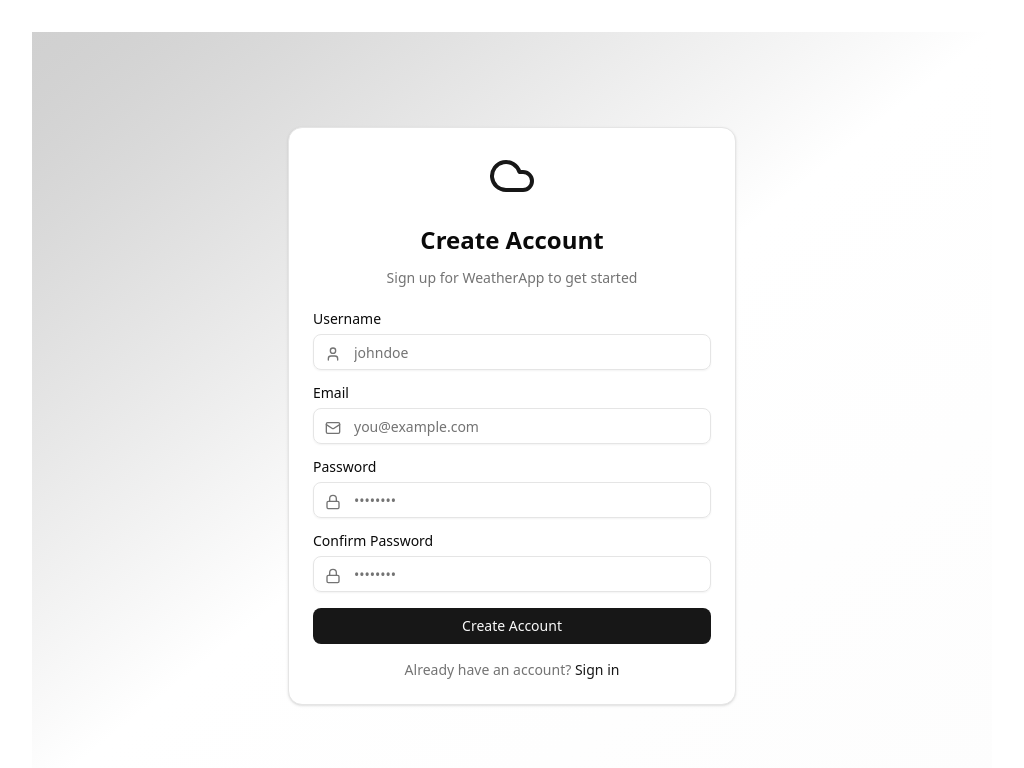
Register Component › V-5: should show an error if passwords do not match
# Fill the form with mismatching passwords (but valid in all other ways)
Type "ValidUser" into the field labelled "Username". click: (512, 352)
box: x1=313 y1=334 x2=711 y2=370
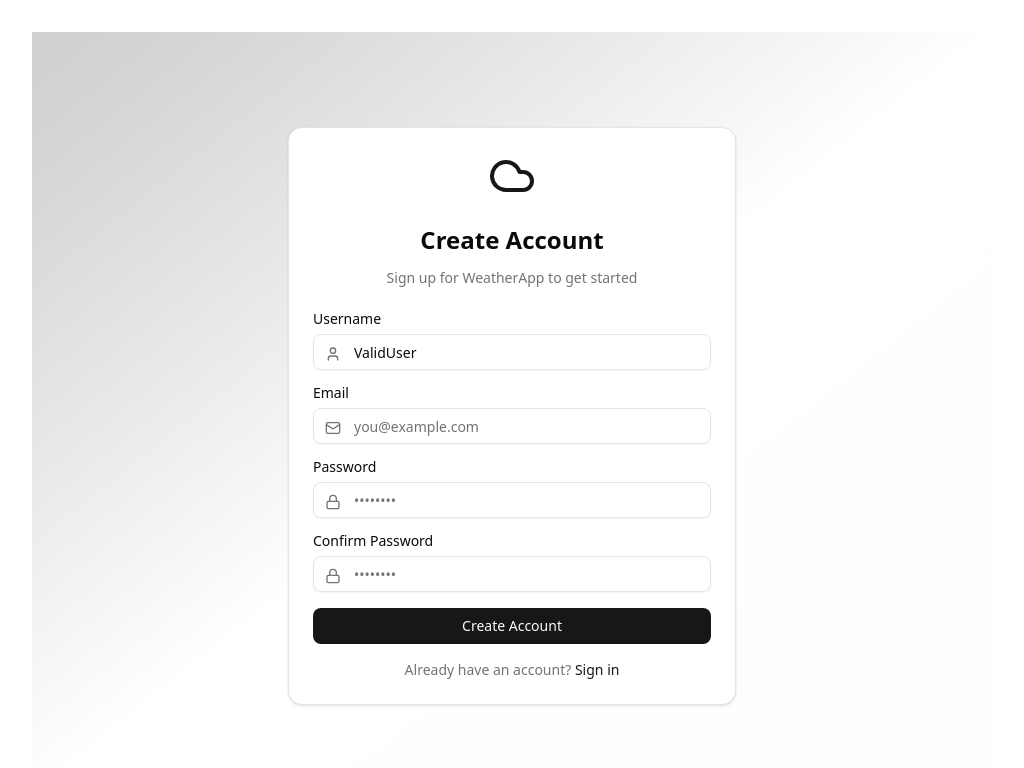
Type "valid@email.com" into the field labelled "Email". click: (512, 426)
box: x1=313 y1=408 x2=711 y2=444
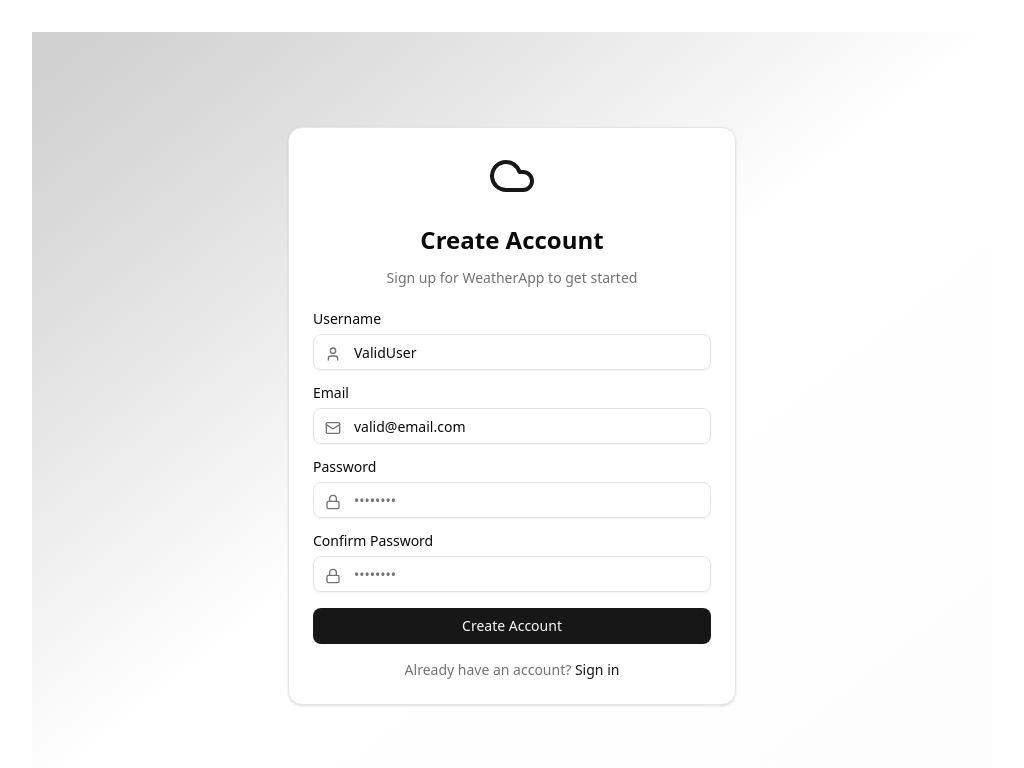
Type "secure123" into the password field labelled "Password". click: (512, 500)
box: x1=313 y1=482 x2=711 y2=518
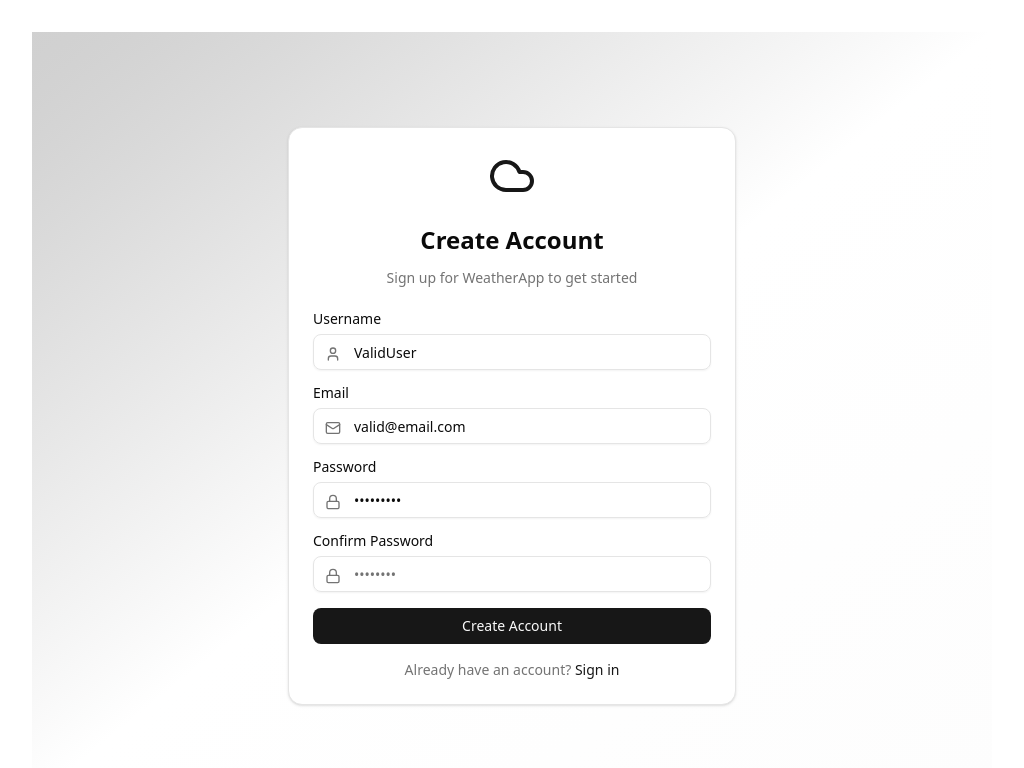
Type "different456" into the password field labelled "Confirm Password". click: (512, 574)
box: x1=313 y1=556 x2=711 y2=592
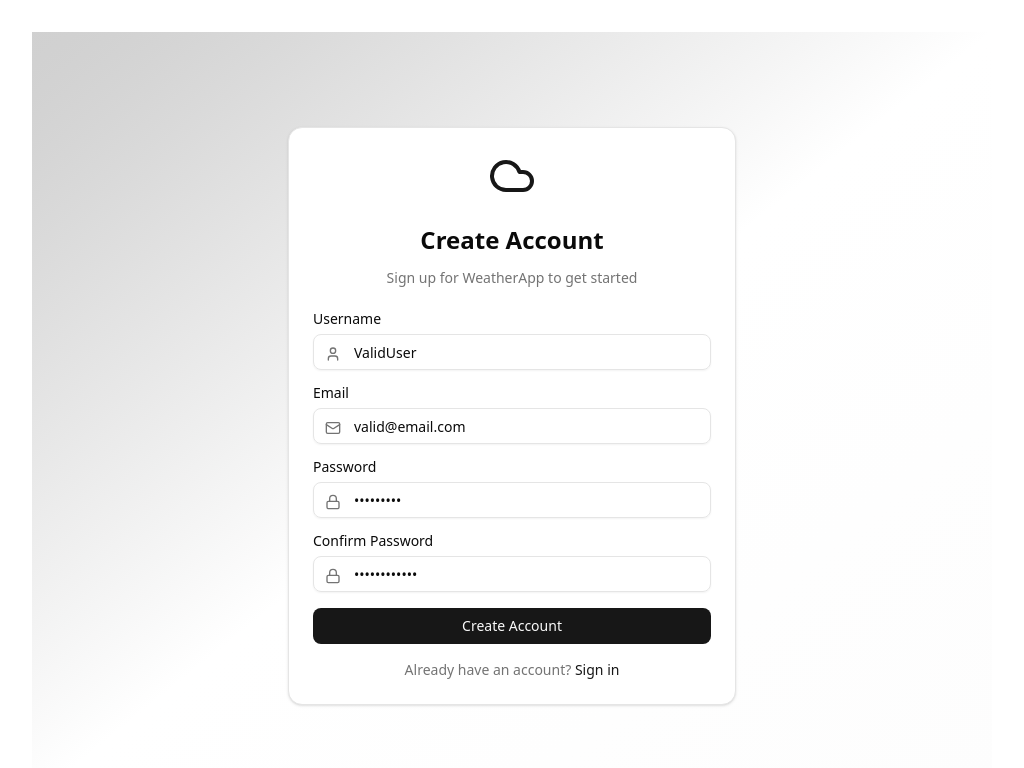
Click the button "Create Account". click: (512, 626)
box: x1=313 y1=608 x2=711 y2=644
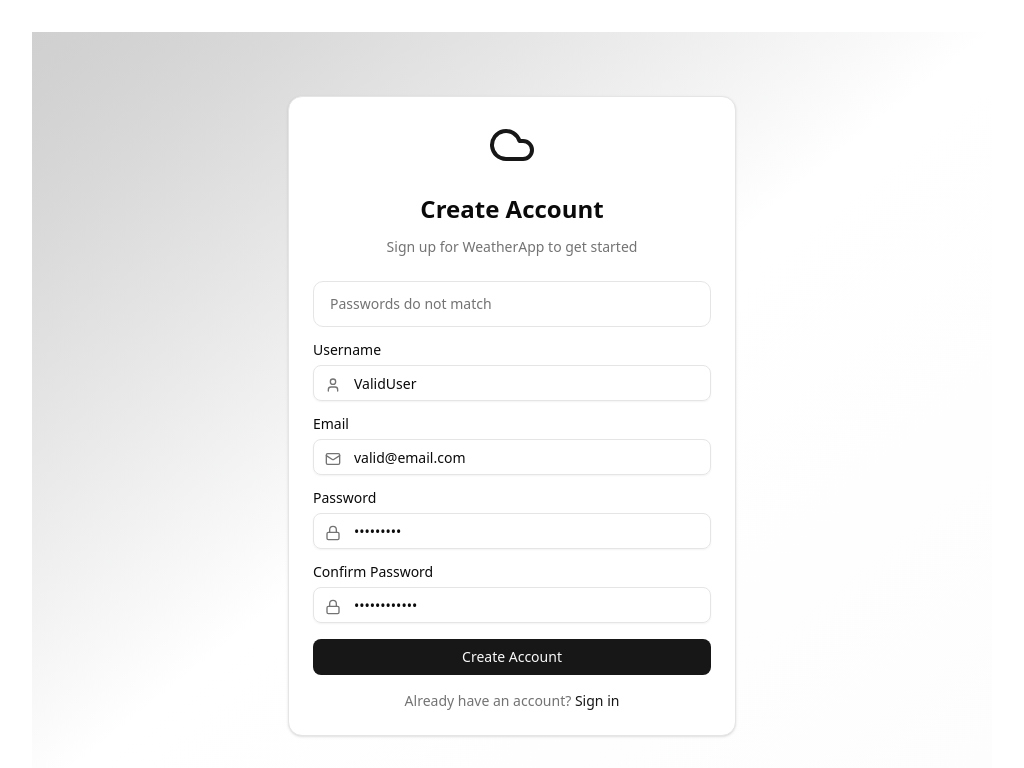
Expected: the text "Passwords do not match" is shown, x1=330 y1=294 x2=492 y2=313
